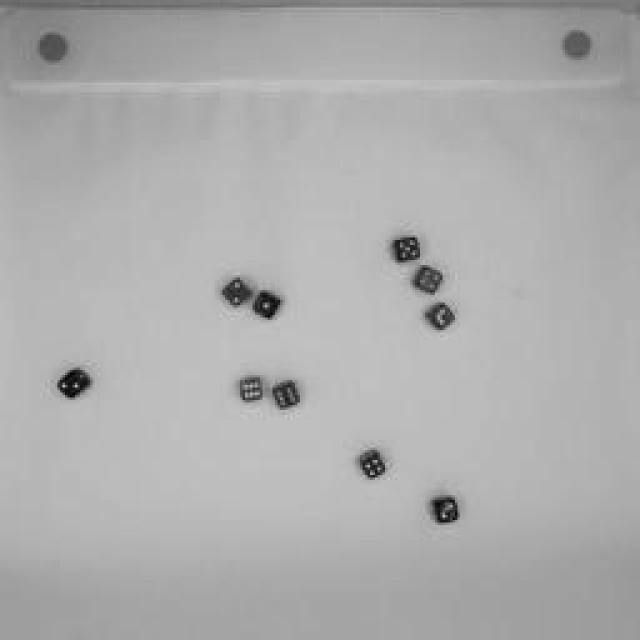dice_1: (251, 288, 284, 322)
dice_2: (51, 369, 94, 401), (424, 298, 461, 332), (220, 275, 255, 310), (428, 496, 462, 526)
dice_4: (356, 448, 392, 482), (412, 265, 446, 297)
dice_5: (390, 232, 425, 268)
dice_6: (270, 378, 305, 414), (236, 374, 269, 406)
